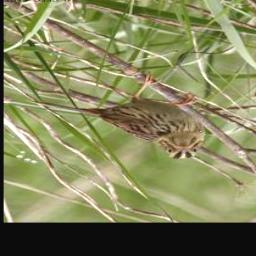Sparrow: (29, 72, 211, 160)
